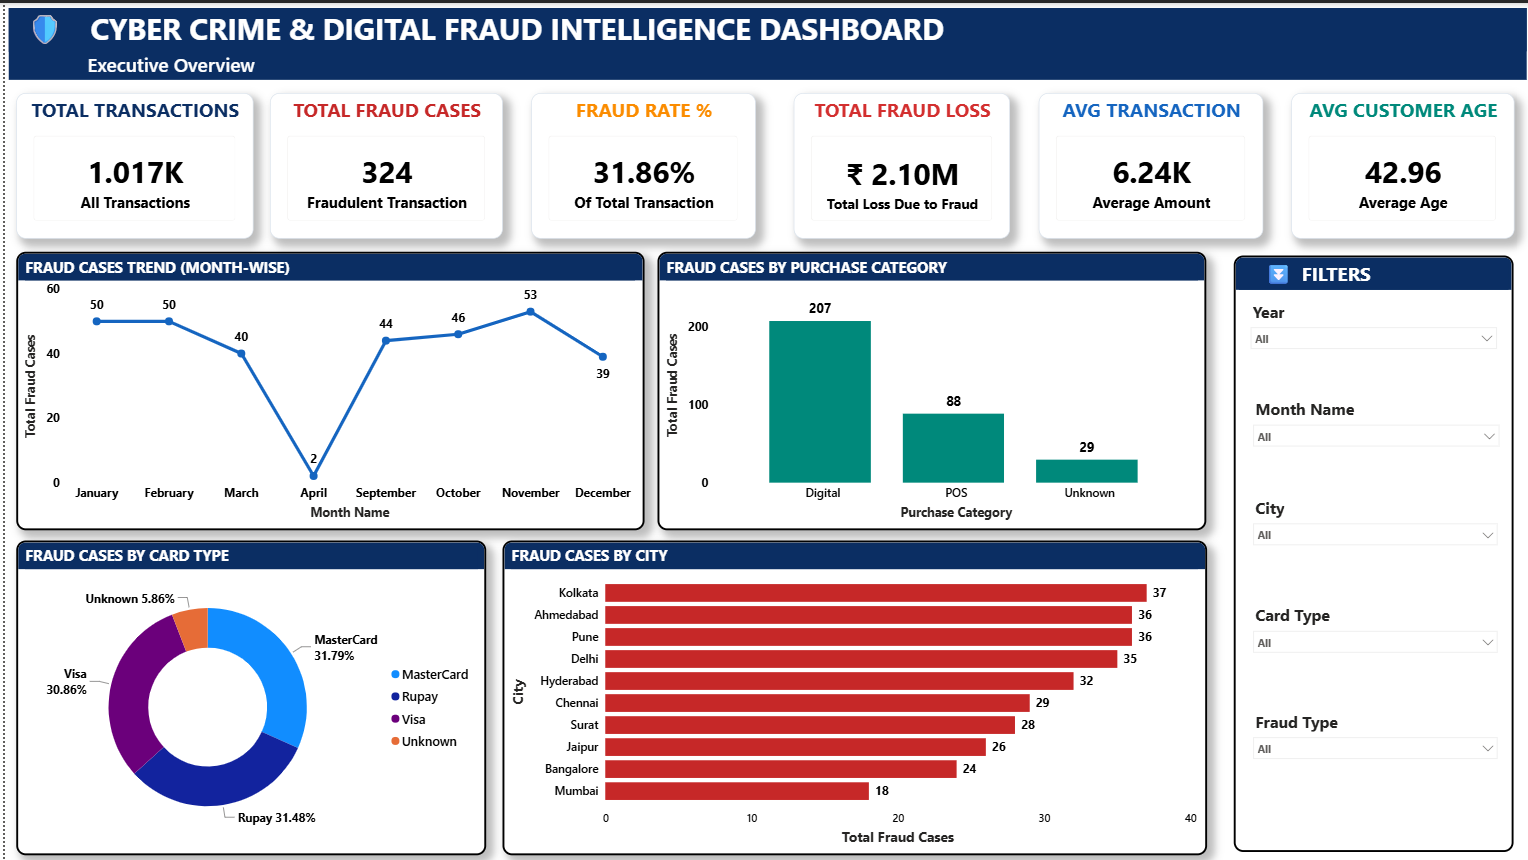

The page's visual inventory and layout, read from the dashboard file:
{"tool":"powerbi","page":{"name":"Executive Overview Dashboard ","canvas":[1920,1080],"ordinal":1},"visuals":[{"type":"shape","title":"   🛡️    CYBER CRIME & DIGITAL FRAUD INTELLIGENCE DASHBOARD","box":[5.2,7,1909.9,90.7],"z":0},{"type":"lineChart","title":"FRAUD CASES TREND (MONTH-WISE)","fields":{"Category":["DateTable.Month Name"],"Y":["Fact_Fraud.Total Fraud Cases"]},"box":[14,312.2,790.1,350.6],"z":1000},{"type":"donutChart","title":"FRAUD CASES BY CARD TYPE","fields":{"Category":["Fact_Fraud.Card Type"],"Y":["Fact_Fraud.Total Fraud Cases"]},"box":[14,676.7,591.3,395.9],"z":2000},{"type":"clusteredBarChart","title":"FRAUD CASES BY CITY","fields":{"Category":["Dim_City.City"],"Y":["Fact_Fraud.Total Fraud Cases"]},"box":[626.2,676.7,886,395.9],"z":3000},{"type":"clusteredColumnChart","title":"FRAUD CASES BY PURCHASE CATEGORY","fields":{"Category":["Fact_Fraud.Purchase Category"],"Y":["Fact_Fraud.Total Fraud Cases"]},"box":[821.5,312.2,690.7,350.6],"z":4000},{"type":"cardVisual","title":"TOTAL TRANSACTIONS","fields":{"Data":["Fact_Fraud.Total Transactions"]},"box":[14,113.4,298.3,183.1],"z":5000},{"type":"cardVisual","title":"TOTAL FRAUD CASES","fields":{"Data":["Fact_Fraud.Total Fraud Cases"]},"box":[333.1,113.4,293,183.1],"z":6000},{"type":"cardVisual","title":"FRAUD RATE %","fields":{"Data":["Fact_Fraud.Fraud Rate %"]},"box":[662.8,113.4,282.6,183.1],"z":7000},{"type":"cardVisual","title":"TOTAL FRAUD LOSS","fields":{"Data":["Fact_Fraud.Total Fraud Loss"]},"box":[992.4,113.4,272.1,183.1],"z":8000},{"type":"cardVisual","title":"AVG TRANSACTION","fields":{"Data":["Fact_Fraud.Average Transaction Amount"]},"box":[1301.2,113.4,282.6,183.1],"z":9000},{"type":"cardVisual","title":"AVG CUSTOMER AGE","fields":{"Data":["Fact_Fraud.Average Customer Age"]},"box":[1618.6,113.4,280.8,183.1],"z":10000},{"type":"shape","title":"     ⏬  FILTERS","box":[1545.4,317.4,352.3,750],"z":11000},{"type":"slicer","fields":{"Values":["DateTable.Year"]},"box":[1557.6,369.8,329.7,94.2],"z":12000},{"type":"slicer","fields":{"Values":["DateTable.Month Name"]},"box":[1559.3,491.9,329.7,85.5],"z":13000},{"type":"slicer","fields":{"Values":["Dim_City.City"]},"box":[1559.3,615.7,327.9,87.2],"z":14000},{"type":"slicer","fields":{"Values":["Fact_Fraud.Card Type"]},"box":[1559.3,751.7,327.9,83.7],"z":15000},{"type":"slicer","fields":{"Values":["Fact_Fraud.Fraud Type"]},"box":[1559.3,886,327.9,109.9],"z":16000}]}

Visuals, with their boxes in screenshot pixels (x1, y1, x2, y2), scaled from the page's 1920x1080 canvas onto the 1528x860 screenshot:
"   🛡️    CYBER CRIME & DIGITAL FRAUD INTELLIGENCE DASHBOARD" shape: bbox(4, 6, 1524, 78)
"FRAUD CASES TREND (MONTH-WISE)" lineChart: bbox(11, 249, 640, 528)
"FRAUD CASES BY CARD TYPE" donutChart: bbox(11, 539, 482, 854)
"FRAUD CASES BY CITY" clusteredBarChart: bbox(498, 539, 1203, 854)
"FRAUD CASES BY PURCHASE CATEGORY" clusteredColumnChart: bbox(654, 249, 1203, 528)
"TOTAL TRANSACTIONS" cardVisual: bbox(11, 90, 249, 236)
"TOTAL FRAUD CASES" cardVisual: bbox(265, 90, 498, 236)
"FRAUD RATE %" cardVisual: bbox(527, 90, 752, 236)
"TOTAL FRAUD LOSS" cardVisual: bbox(790, 90, 1006, 236)
"AVG TRANSACTION" cardVisual: bbox(1036, 90, 1260, 236)
"AVG CUSTOMER AGE" cardVisual: bbox(1288, 90, 1512, 236)
"     ⏬  FILTERS" shape: bbox(1230, 253, 1510, 850)
slicer - DateTable.Year: bbox(1240, 294, 1502, 369)
slicer - DateTable.Month Name: bbox(1241, 392, 1503, 460)
slicer - Dim_City.City: bbox(1241, 490, 1502, 560)
slicer - Fact_Fraud.Card Type: bbox(1241, 599, 1502, 665)
slicer - Fact_Fraud.Fraud Type: bbox(1241, 706, 1502, 793)
